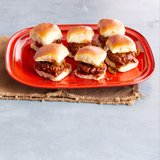slice of bread: (31, 23, 60, 43), (76, 46, 104, 64), (35, 45, 66, 61), (66, 25, 93, 40), (96, 19, 122, 34), (106, 61, 138, 72), (108, 40, 135, 52), (39, 72, 66, 83), (78, 74, 106, 81)
